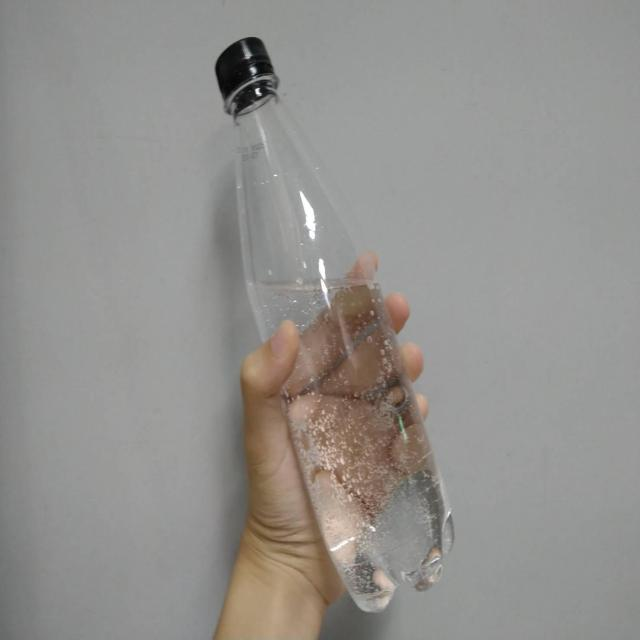bottle: (212, 38, 464, 614)
